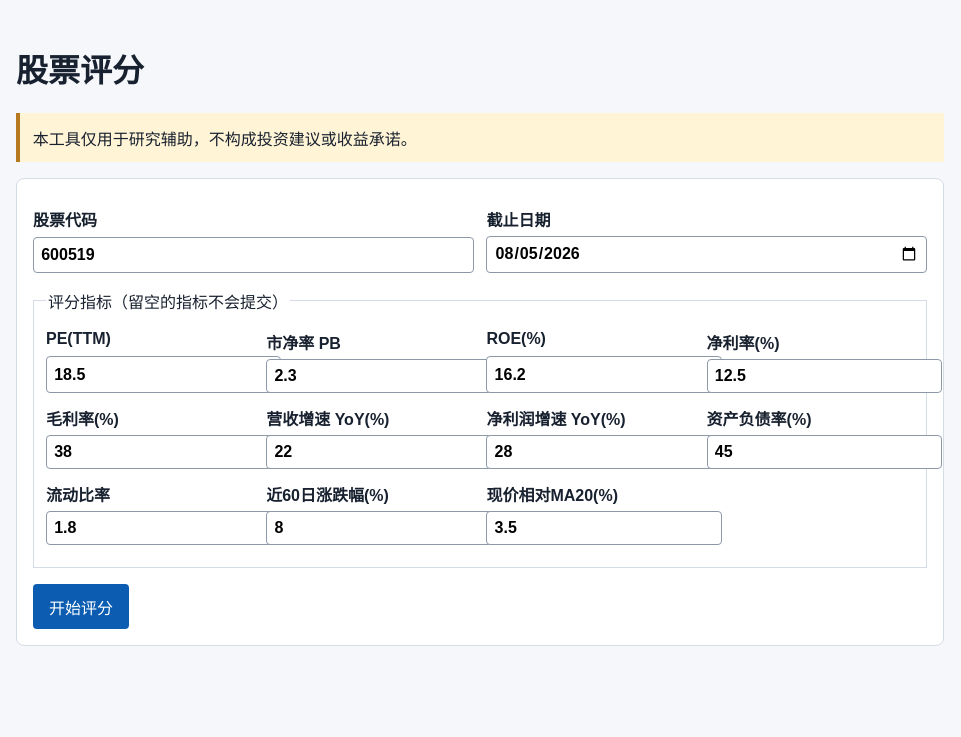
scoring page › shows total, grade, label, and dimension detail for a complete response
The width and height of the screenshot is (961, 737).
Click the button "开始评分".
click(81, 607)  # box [33,584,129,629]
(page scrolled)
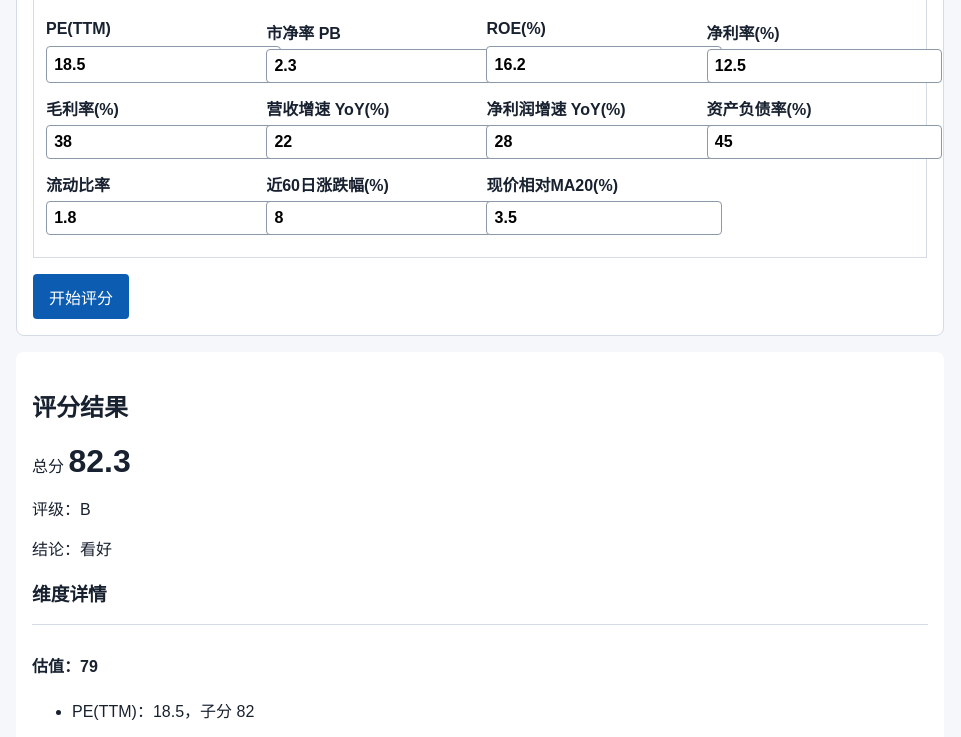
Check: the text "82.3" is shown, box [68,443,131,479]
Check: the text "评级：B" is shown, box [32,501,91,518]
Check: the text "结论：看好" is shown, box [32,541,112,558]
